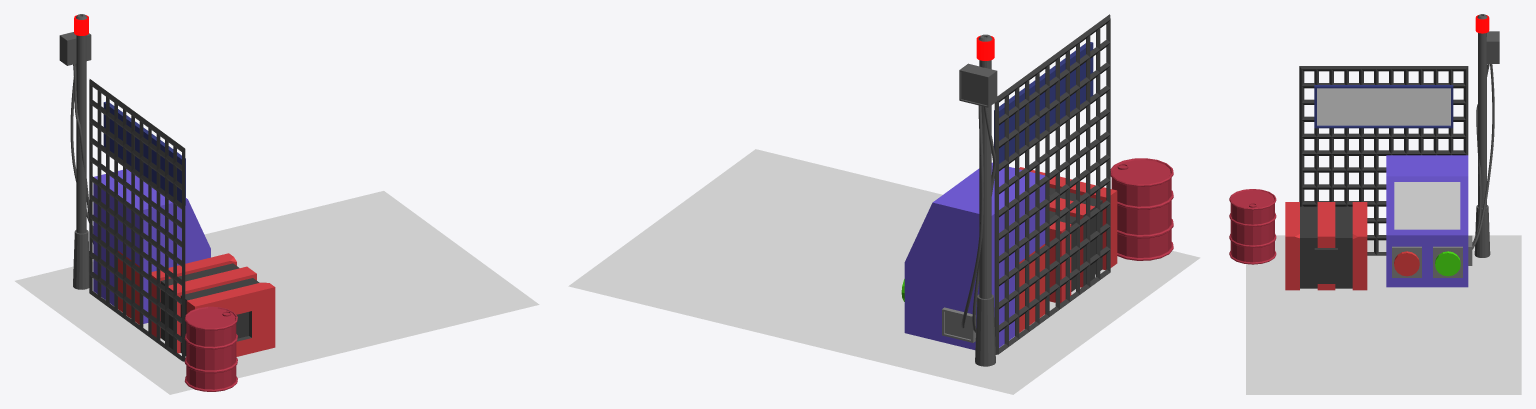
The model's file is GetFuelAndKitblend.fbx.
3 renders of one model, left to right at view 1: azimuth 30°, elevation 25°; view 2: azimuth 150°, elevation 25°; view 3: azimuth 270°, elevation 25°, orthographic. The views are drawn at different scales.
Visible parts, largest first — view 1: Ground, Сітка, Box, Comp, Cylinder, Stolb, Panel, MiniBox, Catenary.001; view 2: Ground, Сітка, Comp, Cylinder, Stolb, Box, Panel, MiniBox, Catenary, Catenary.001; view 3: Ground, Comp, Сітка, Box, Panel, Cylinder, Stolb, Catenary, MiniBox, Catenary.001.
Part boxes in pixels (<box>): Ground: <box>15,191,539,394</box>; Сітка: <box>89,79,185,361</box>; Box: <box>151,253,275,356</box>; Comp: <box>93,169,210,324</box>; Cylinder: <box>184,306,237,391</box>; Stolb: <box>73,14,89,289</box>; Panel: <box>103,101,185,205</box>; MiniBox: <box>59,32,91,65</box>; Catenary.001: <box>73,64,93,243</box>; Ground: <box>568,149,1200,394</box>; Сітка: <box>994,14,1110,354</box>; Comp: <box>901,162,1045,349</box>; Cylinder: <box>1110,158,1173,260</box>; Stolb: <box>975,34,995,366</box>; Box: <box>1019,167,1117,303</box>; Panel: <box>994,42,1093,163</box>; MiniBox: <box>959,63,997,107</box>; Catenary: <box>961,105,983,328</box>; Catenary.001: <box>972,106,996,332</box>; Ground: <box>1246,235,1521,394</box>; Comp: <box>1386,155,1472,287</box>; Сітка: <box>1299,66,1468,255</box>; Box: <box>1285,202,1367,290</box>; Panel: <box>1314,85,1453,128</box>; Cylinder: <box>1229,189,1276,264</box>; Stolb: <box>1474,14,1490,257</box>; Catenary: <box>1472,64,1494,249</box>; MiniBox: <box>1486,31,1499,63</box>; Catenary.001: <box>1472,64,1489,244</box>.
Bounding box in the file's own units: 921 × 651 × 713.
